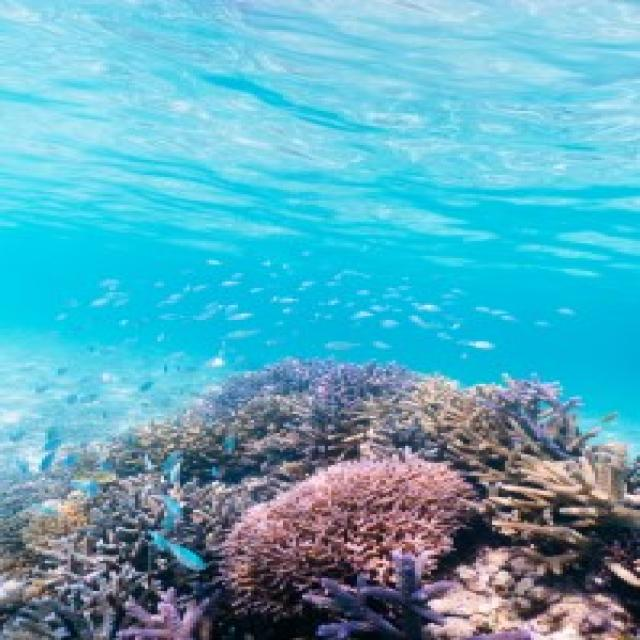Healthy: (223, 458, 474, 615), (426, 400, 638, 554), (69, 464, 265, 575), (191, 362, 416, 447), (429, 551, 638, 639), (20, 543, 207, 639), (406, 379, 590, 458), (307, 575, 438, 639), (114, 421, 226, 475), (27, 492, 88, 558)
